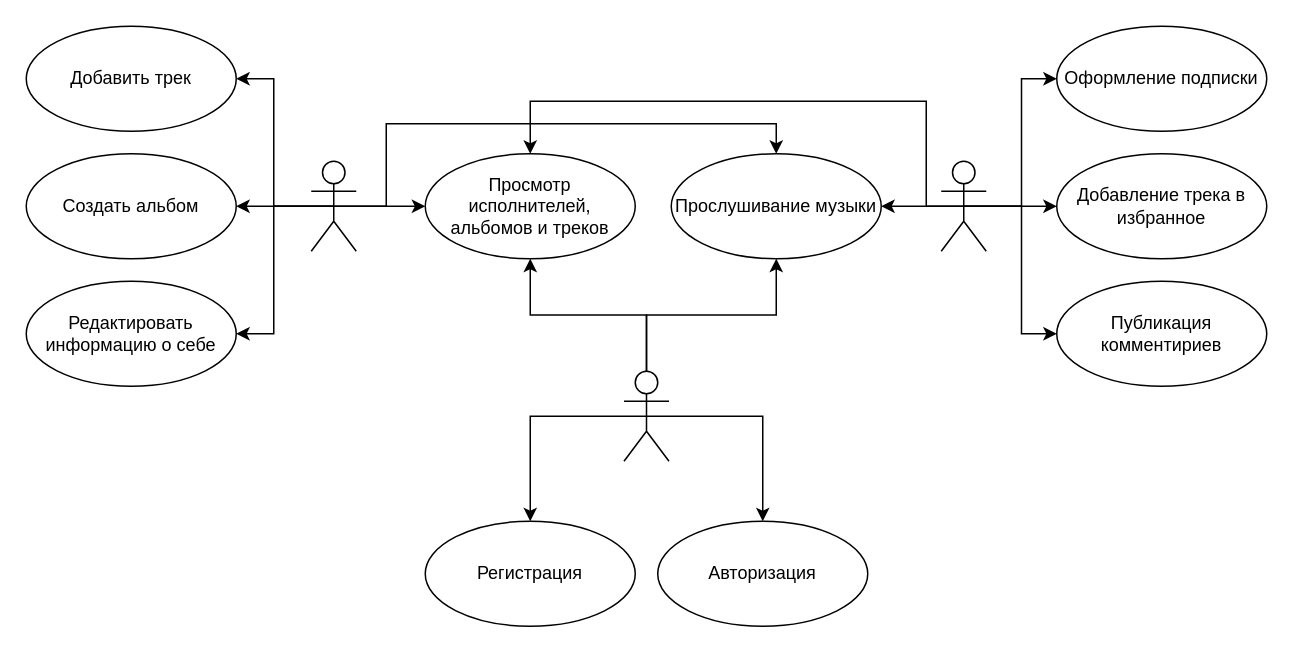
This 1293x653 diagram has some shape labels left out. The shapes that lost their labels are listed below. From the top down, each one's box as (x1, y1, x2, y2) in pixels, then its label:
(310, 160, 356, 251): Исполнитель
(940, 160, 986, 251): Пользователь
(622, 370, 669, 461): Гость
